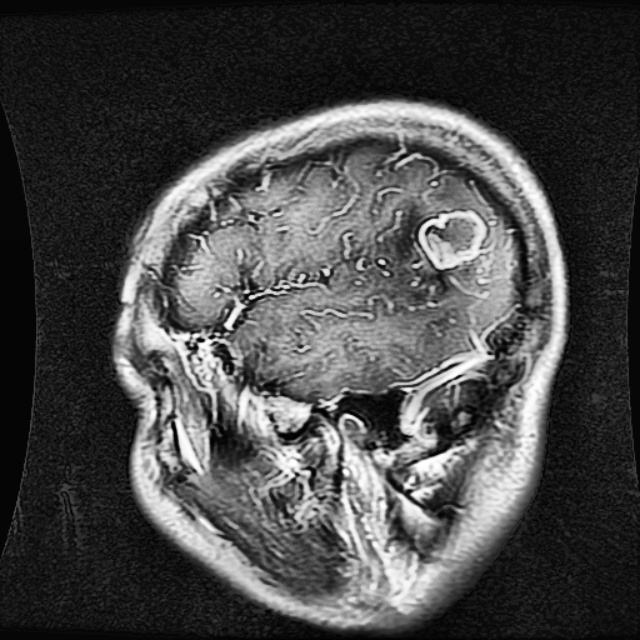Meningioma: (415, 207, 484, 268)
